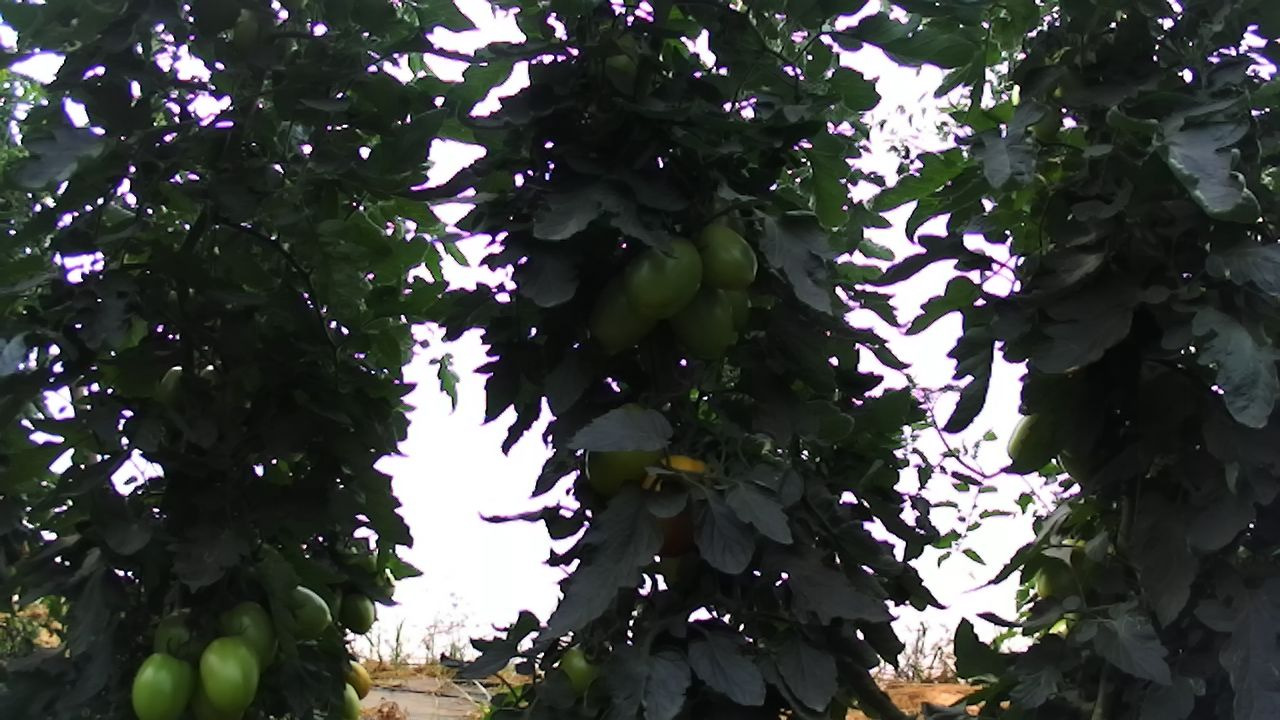tomato: (617, 233, 707, 325), (583, 277, 663, 360), (665, 279, 738, 361), (194, 631, 264, 713), (127, 649, 197, 720), (697, 222, 761, 293), (287, 572, 334, 643), (336, 585, 378, 641)
